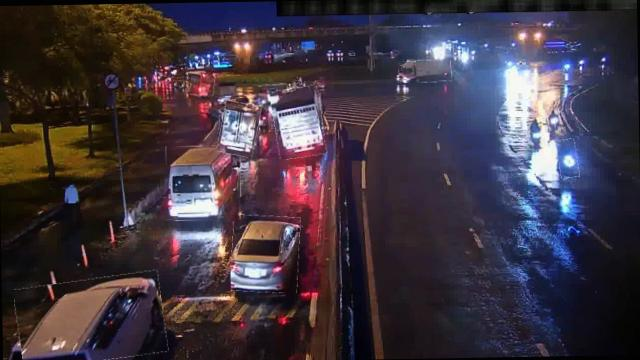Bike: (556, 138, 578, 177), (528, 118, 546, 150), (547, 106, 561, 130)
Bus: (165, 144, 241, 220), (187, 73, 214, 95)
Car: (14, 273, 166, 360), (230, 213, 300, 292), (258, 84, 287, 104)
Truck: (272, 86, 324, 159), (218, 100, 260, 156), (403, 58, 451, 82)
